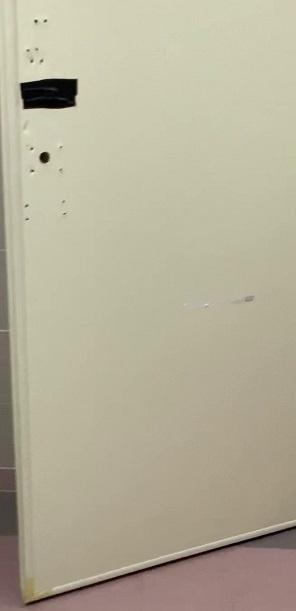door: (10, 0, 296, 604)
